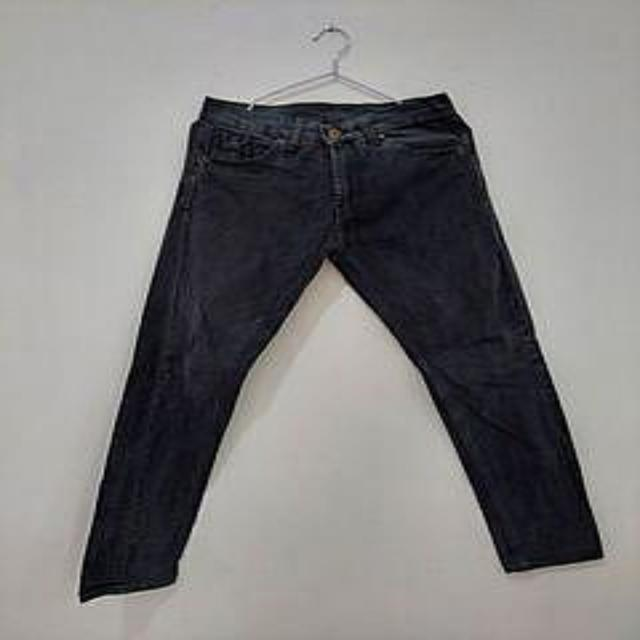TROUSER: (66, 90, 640, 618)
